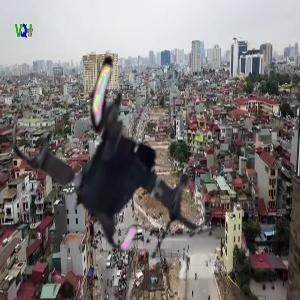drone: (5, 31, 245, 271)
